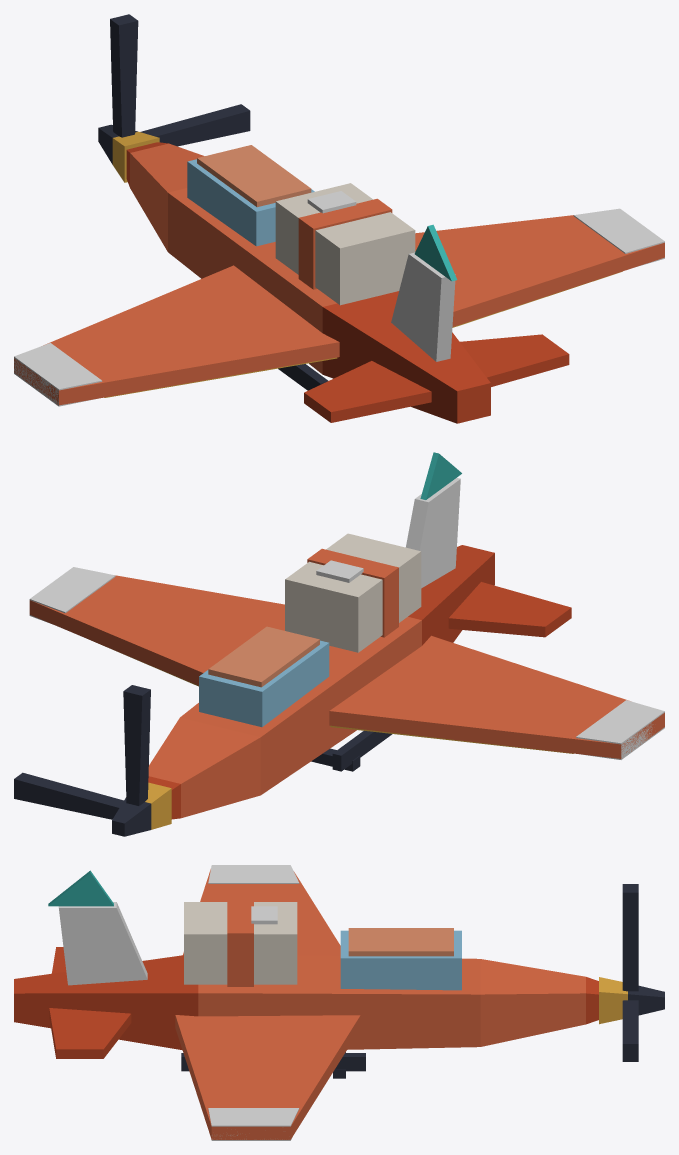
File: coral-plane.glb
The picture shows the model from 3 angles, top to bottom: view 1: azimuth 30°, elevation 25°; view 2: azimuth 150°, elevation 25°; view 3: azimuth 270°, elevation 25°; orthographic projection. The views are drawn at different scales.
Visible parts, largest first — view 1: Body, Cargo, Propeller; view 2: Body, Cargo, Propeller; view 3: Body, Cargo, Propeller.
Part boxes in pixels (x1,y1,x2,y2): Body: (14,142,664,423); Cargo: (275,183,415,305); Propeller: (98,14,250,182); Body: (29,452,664,819); Cargo: (285,533,421,652); Propeller: (14,685,171,836); Body: (14,865,598,1140); Cargo: (184,899,297,986); Propeller: (599,884,664,1061).
Bounding box in the file's own units: 4.68 × 1.52 × 4.94.
